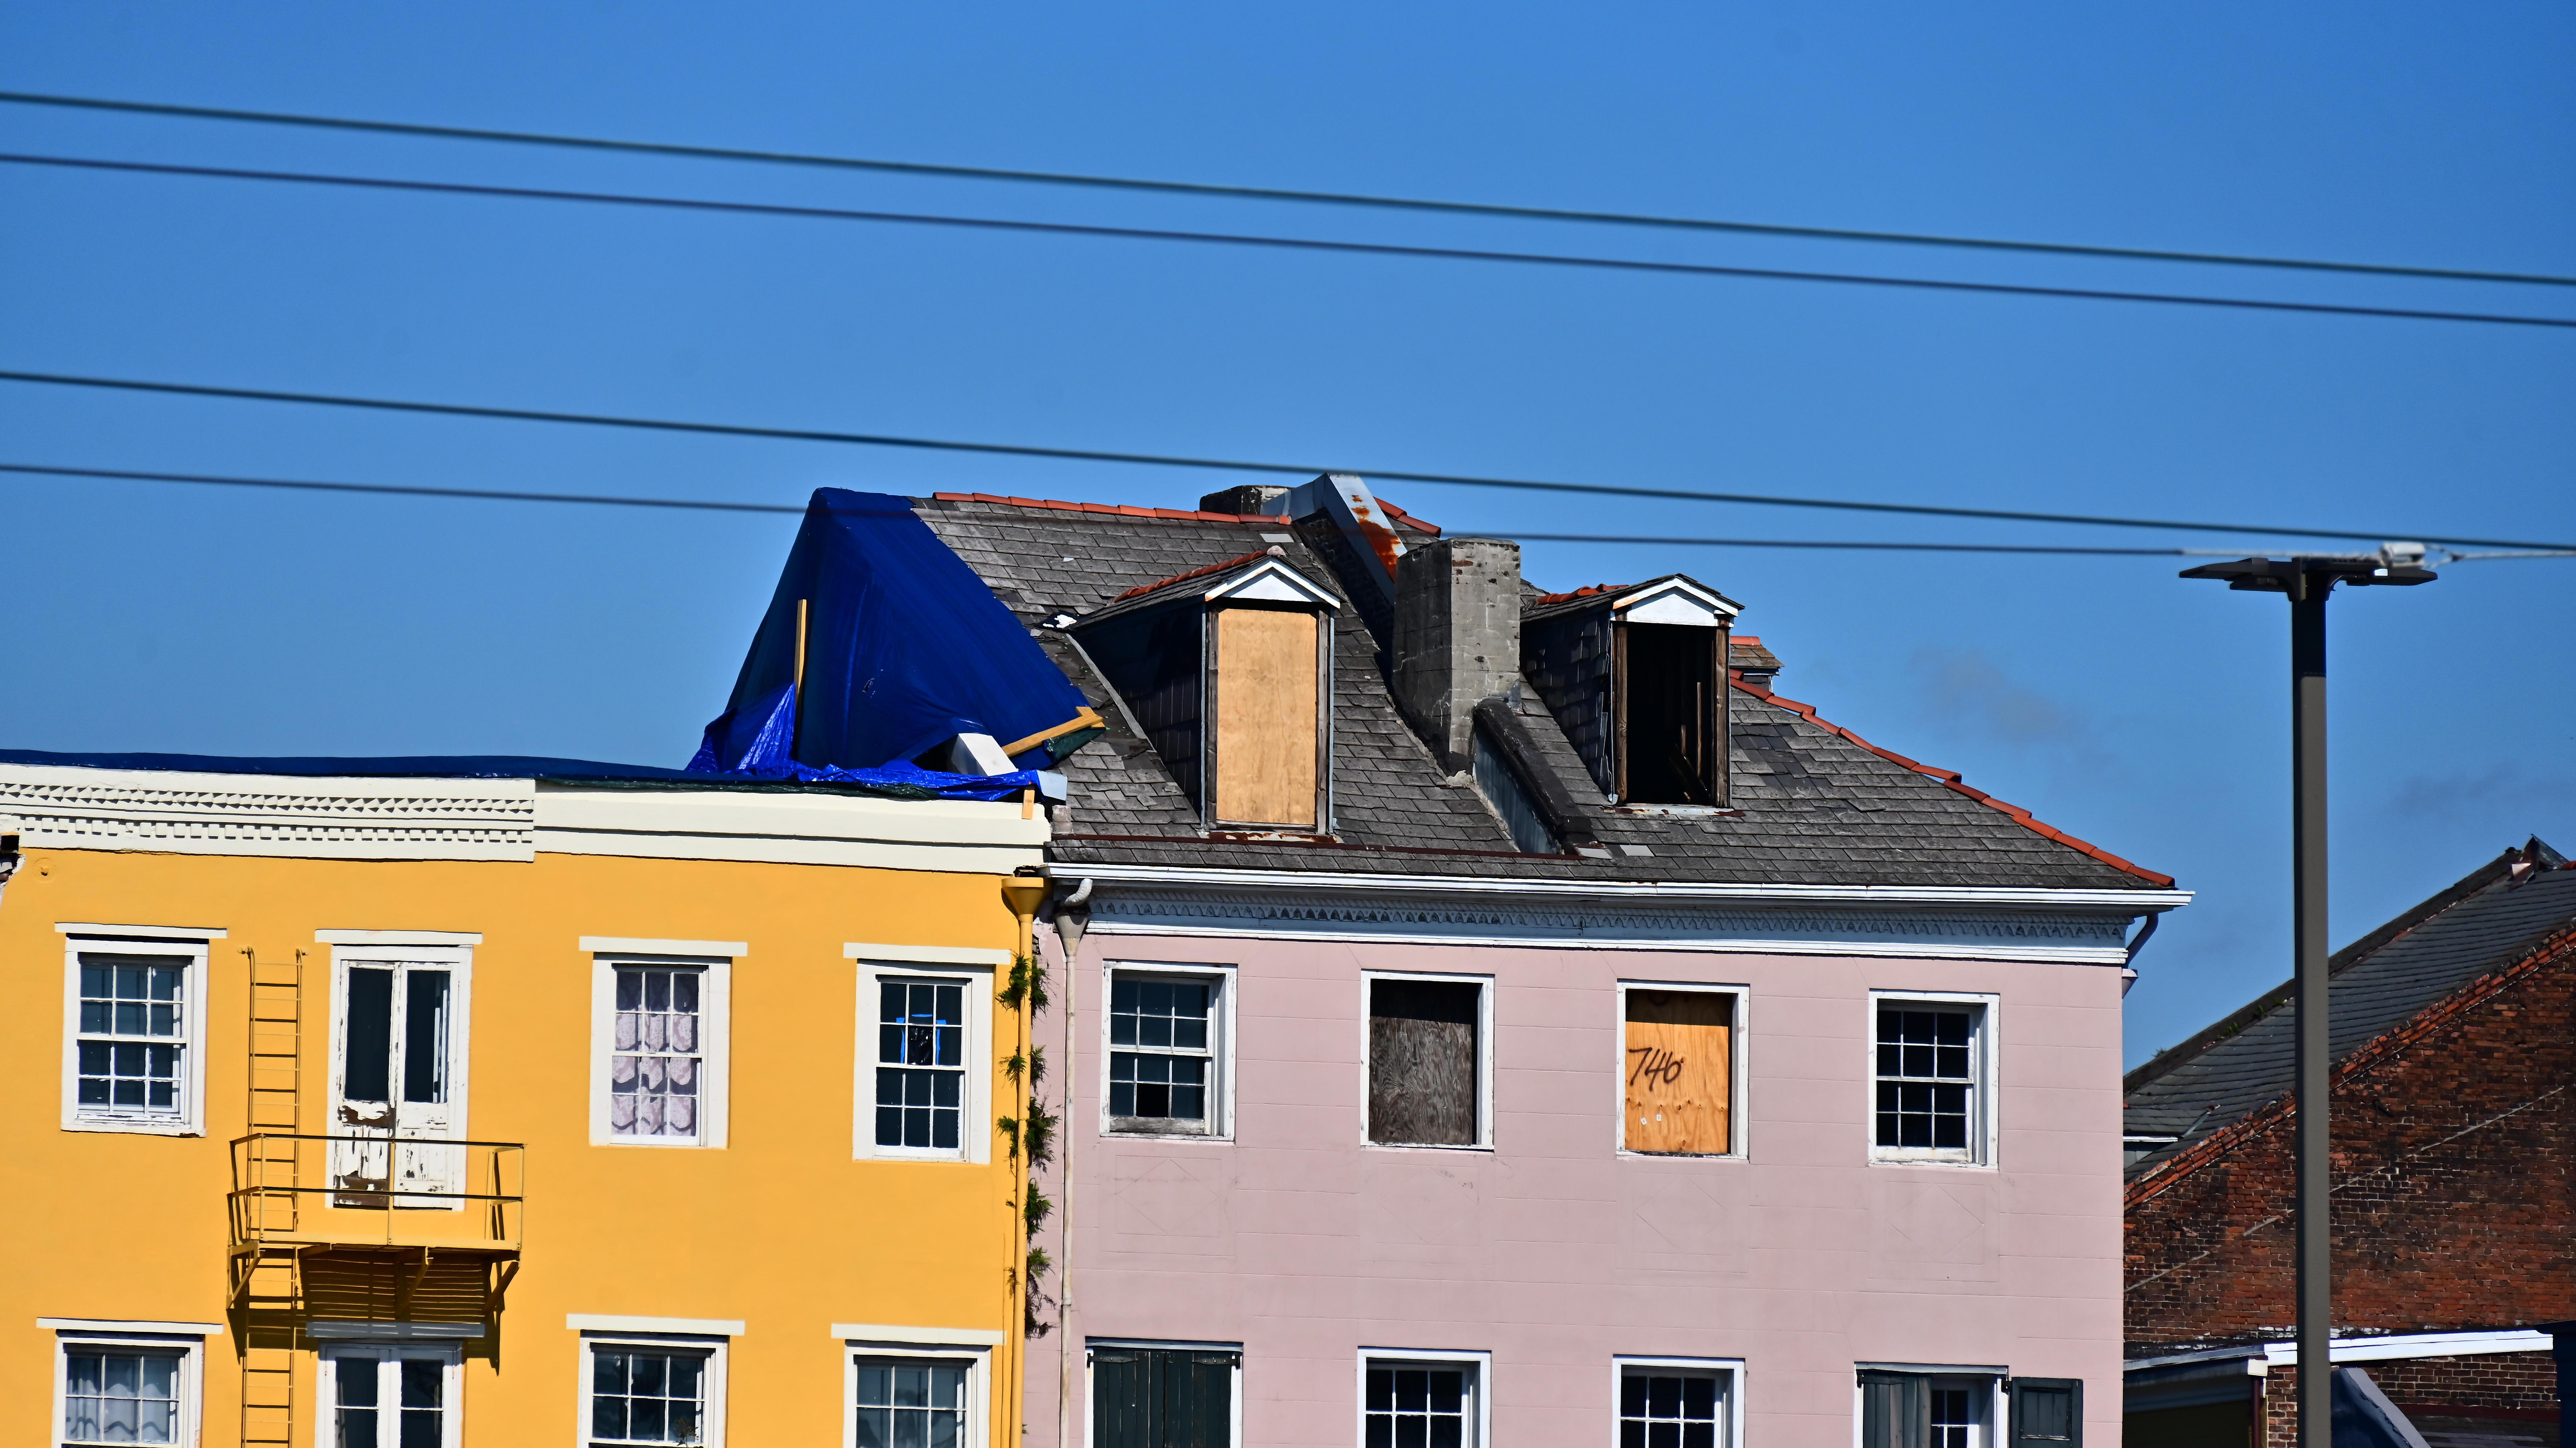major: (0, 405, 2204, 1448)
